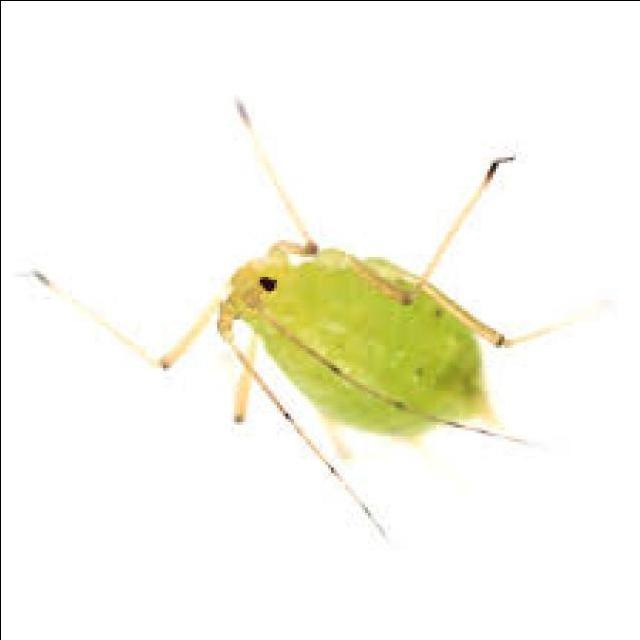aphid: (88, 110, 580, 546)
